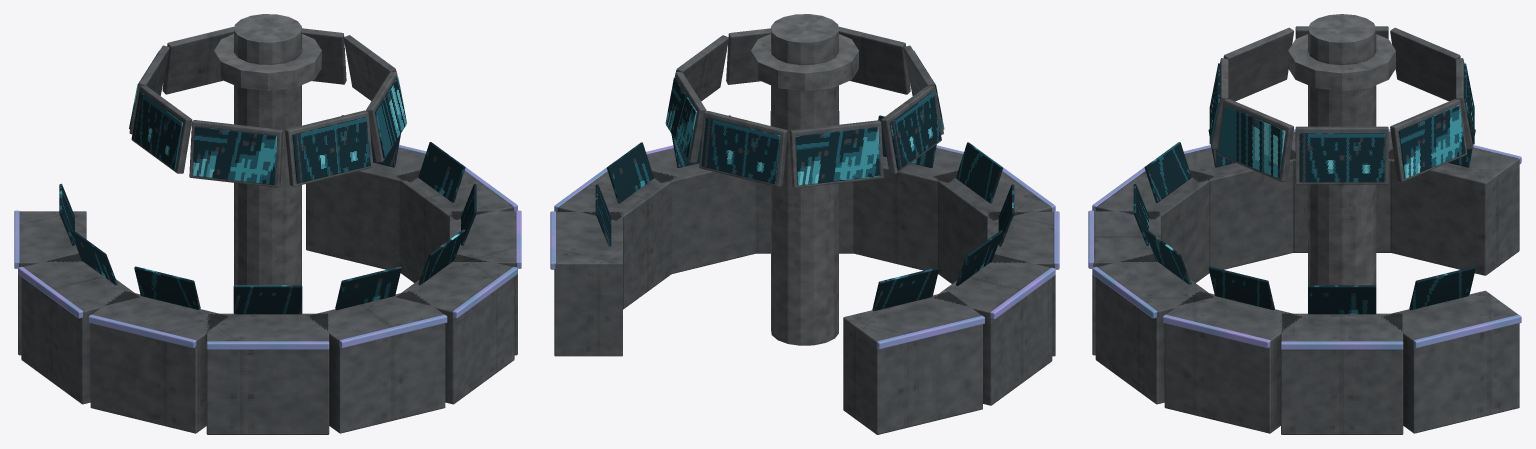
The model's file is base_trading_post.glb.
3 views of the same model, side by side, from view 1: azimuth 30°, elevation 25°; view 2: azimuth 150°, elevation 25°; view 3: azimuth 270°, elevation 25° (orthographic).
Visible parts, largest first — view 1: base_trading_post.001; view 2: base_trading_post.001; view 3: base_trading_post.001.
Boxes of the visible parts, x1,y1,x2,y2 form: base_trading_post.001: [14, 14, 521, 434]; base_trading_post.001: [550, 14, 1059, 434]; base_trading_post.001: [1088, 14, 1521, 434].
Bounding box in the file's own units: 5.18 × 3.4 × 4.42.
3 materials, 3 textured.
